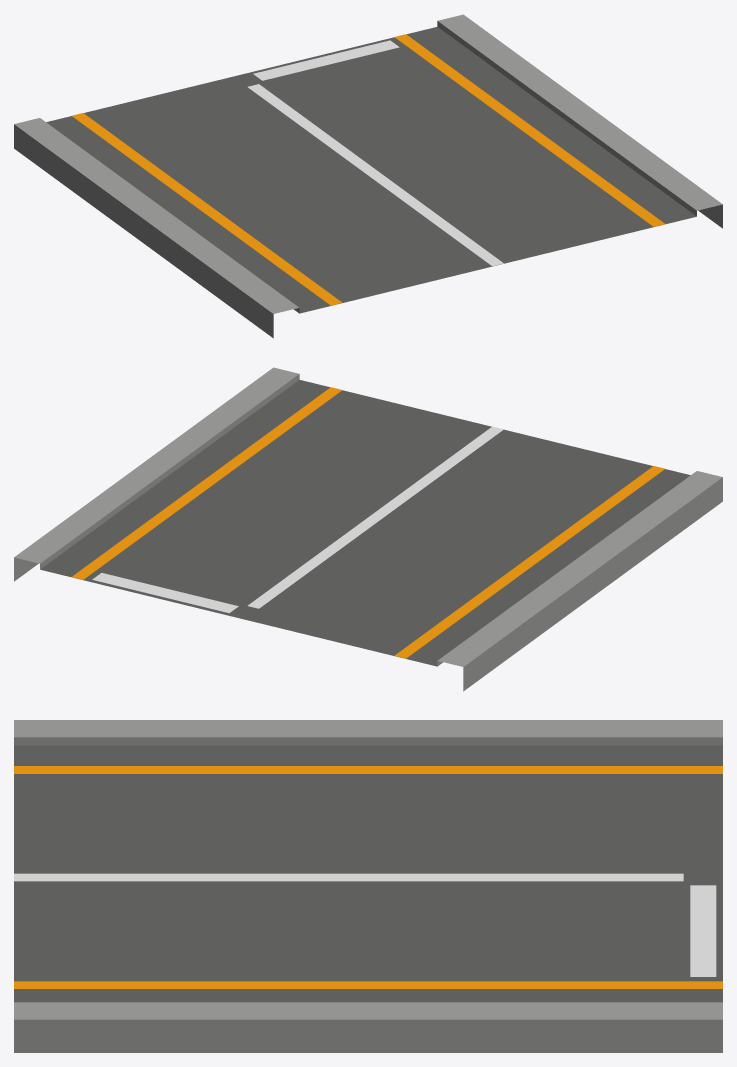
The model's file is Road_B_15.fbx.
The picture shows the model from 3 angles, top to bottom: view 1: azimuth 30°, elevation 25°; view 2: azimuth 150°, elevation 25°; view 3: azimuth 270°, elevation 25°; orthographic projection. The views are drawn at different scales.
Visible parts, largest first — view 1: Road_B_15; view 2: Road_B_15; view 3: Road_B_15.
Boxes of the visible parts, bbox=[...] form: Road_B_15: bbox=[14, 14, 722, 338]; Road_B_15: bbox=[14, 367, 722, 691]; Road_B_15: bbox=[14, 720, 722, 1052].
Size of the model in its own units: 800 by 41.48 by 800.
